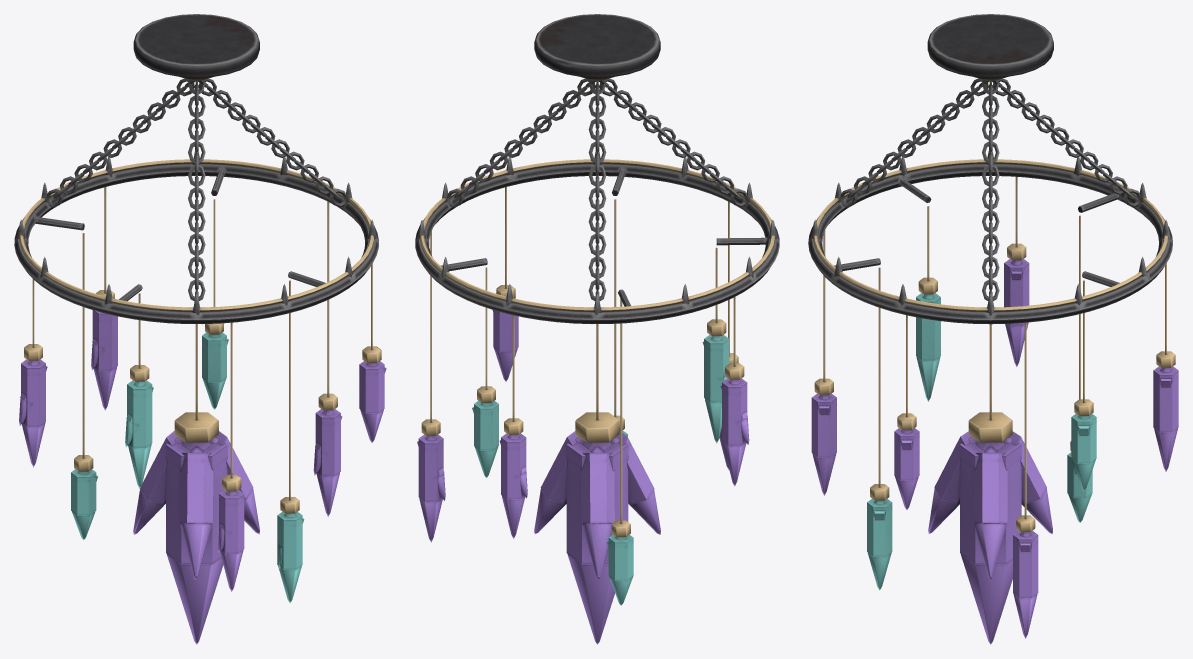
The model's file is HangingCrystals.fbx.
3 views of the same model, side by side, from view 1: azimuth 30°, elevation 25°; view 2: azimuth 150°, elevation 25°; view 3: azimuth 270°, elevation 25° (orthographic).
Parts seen in each view (by area): view 1: HangingCrystals_Main, HangingCrystals_Glow, HangingCrystals_Glow2; view 2: HangingCrystals_Main, HangingCrystals_Glow, HangingCrystals_Glow2; view 3: HangingCrystals_Main, HangingCrystals_Glow, HangingCrystals_Glow2.
Boxes of the visible parts, bbox=[...] form: HangingCrystals_Main: bbox=[14, 14, 381, 513]; HangingCrystals_Glow: bbox=[19, 310, 386, 644]; HangingCrystals_Glow2: bbox=[71, 332, 304, 603]; HangingCrystals_Main: bbox=[415, 14, 779, 537]; HangingCrystals_Glow: bbox=[417, 310, 749, 644]; HangingCrystals_Glow2: bbox=[472, 334, 729, 605]; HangingCrystals_Main: bbox=[808, 14, 1175, 532]; HangingCrystals_Glow: bbox=[811, 259, 1178, 644]; HangingCrystals_Glow2: bbox=[867, 293, 1096, 590].
Size of the model in its own units: 268 by 476 by 264.
